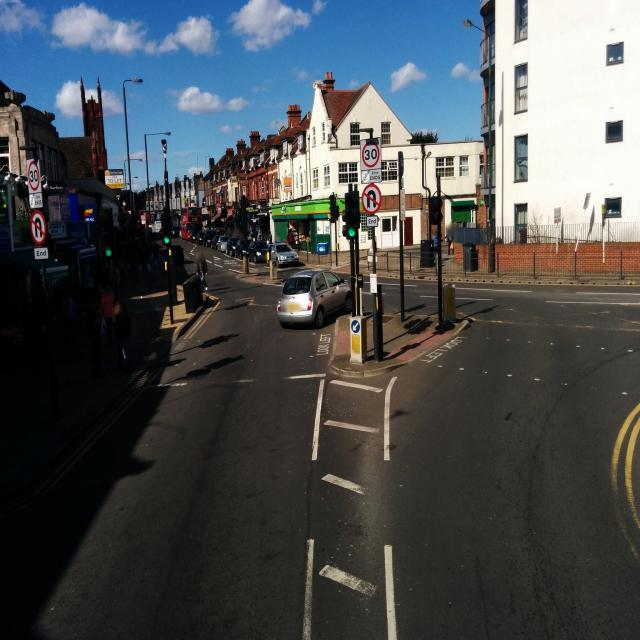car: (277, 268, 352, 329), (269, 242, 300, 267), (248, 240, 269, 263), (236, 238, 252, 259), (227, 237, 240, 256), (218, 235, 230, 253), (211, 235, 220, 250)
